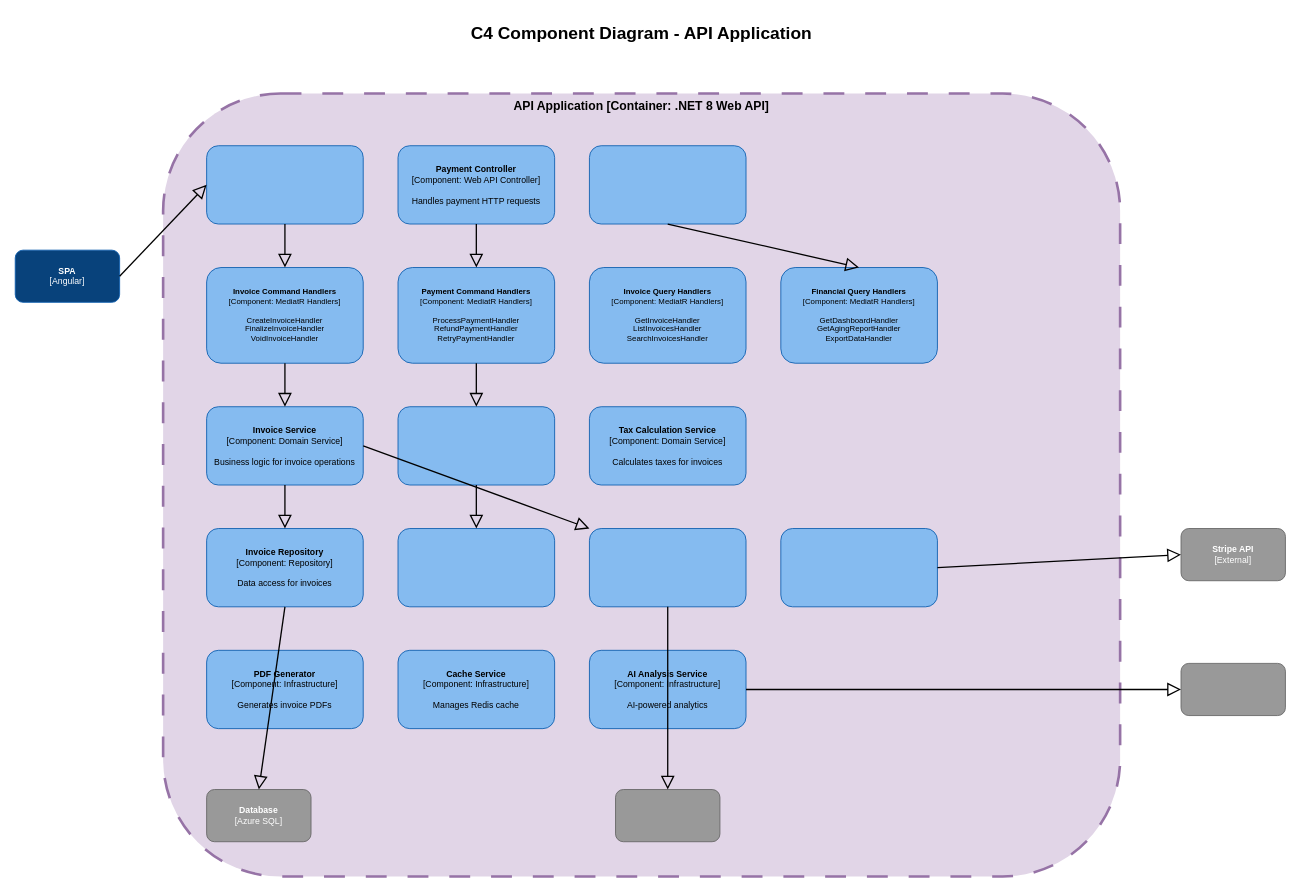
Image size: 1301x893. Some labels were removed from this diagram. The shapes that lost their labels are listed below. From the top down, each one's box as (x1, y1, x2, y2) in pixels, then its label:
(206, 145, 363, 224): Invoice Controller [Component: Web API Controller] Handles invoice HTTP requests
(589, 145, 746, 224): Financial Controller [Component: Web API Controller] Handles reporting requests
(397, 406, 555, 485): Payment Service [Component: Domain Service] Business logic for payments
(397, 528, 555, 607): Payment Repository [Component: Repository] Data access for payments
(589, 528, 746, 607): Event Publisher [Component: Infrastructure] Publishes domain events
(780, 528, 937, 607): Payment Gateway Client [Component: Infrastructure] Integrates with Stripe/PayPal
(1180, 663, 1285, 716): Azure OpenAI [External]
(615, 789, 720, 842): Service Bus [Azure]
